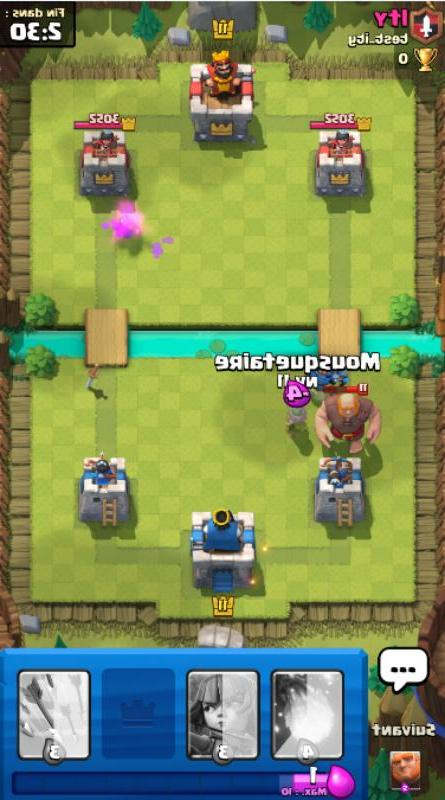chevalier: (305, 368, 332, 390)
gargouille: (324, 370, 350, 387)
geant: (313, 382, 382, 454)
mousquetaire: (285, 407, 310, 441)
